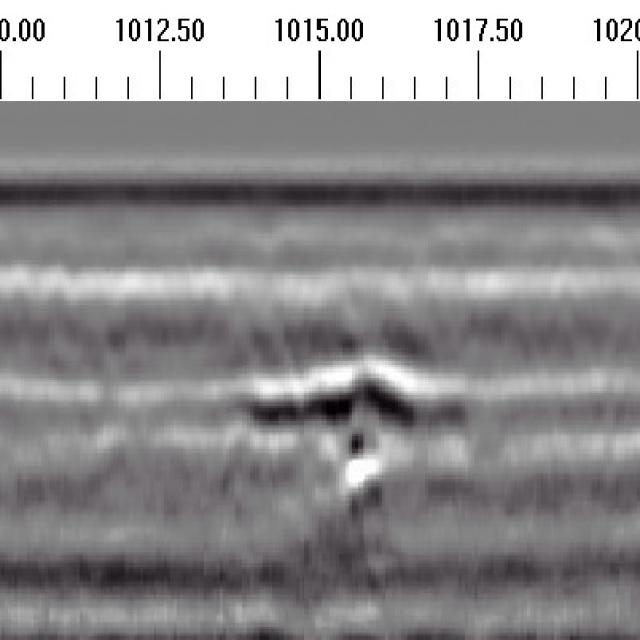loose: (243, 314, 469, 503)
